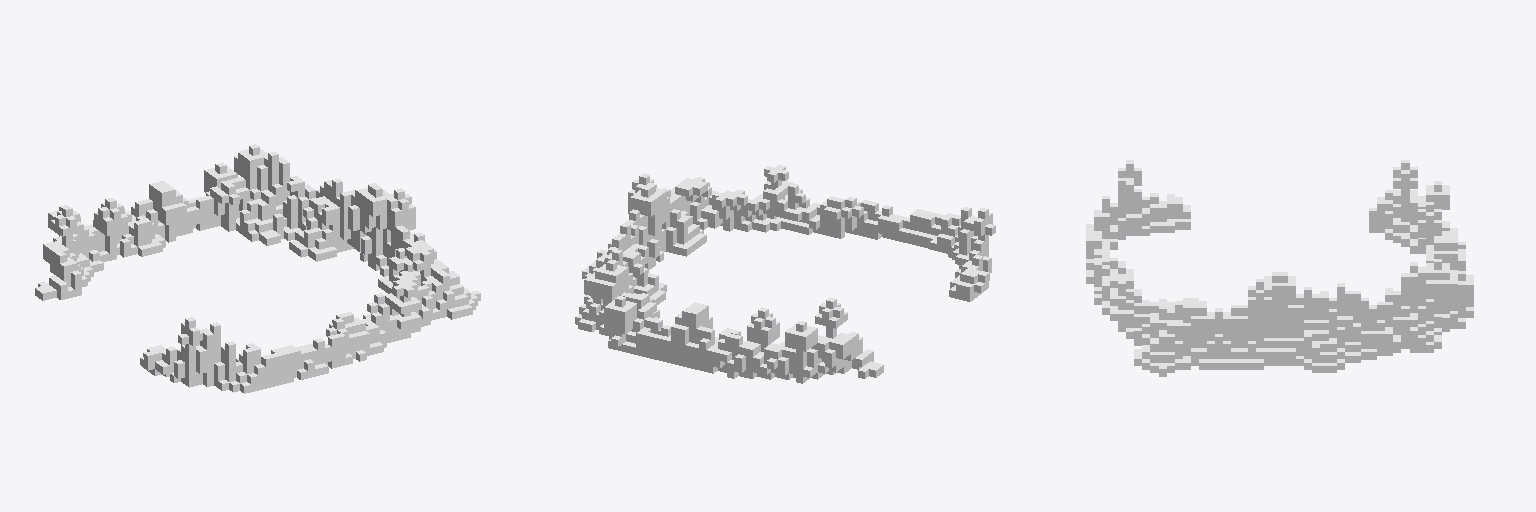
File: Overgroth.obj
The picture shows the model from 3 angles: view 1: azimuth 30°, elevation 25°; view 2: azimuth 150°, elevation 25°; view 3: azimuth 270°, elevation 25°; orthographic projection.
Visible parts, largest first — view 1: object 1; view 2: object 1; view 3: object 1.
Boxes of the visible parts, x1,y1,x2,y2 form: object 1: [35, 144, 480, 393]; object 1: [575, 165, 995, 383]; object 1: [1086, 160, 1473, 376].
Bounding box in the file's own units: 4.7 × 1.1 × 4.8.